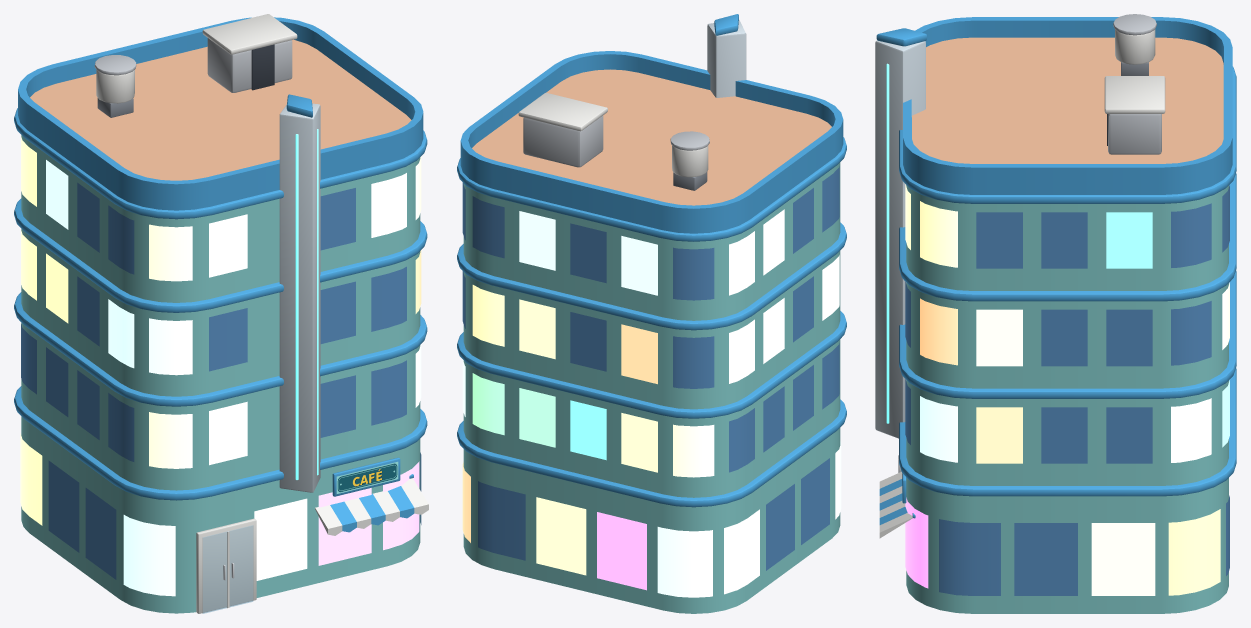
The model's file is deco_cristal_turquesa.glb.
3 views of the same model, side by side, from view 1: azimuth 30°, elevation 25°; view 2: azimuth 150°, elevation 25°; view 3: azimuth 270°, elevation 25° (orthographic). The views are drawn at different scales.
Parts seen in each view (by area): view 1: deco_cristal_turquesa; view 2: deco_cristal_turquesa; view 3: deco_cristal_turquesa.
Part boxes in pixels (<box>): deco_cristal_turquesa: <box>14,14,428,613</box>; deco_cristal_turquesa: <box>457,14,846,613</box>; deco_cristal_turquesa: <box>875,14,1236,613</box>.
Size of the model in its own units: 10.84 by 16.63 by 10.74.
11 materials, 2 textured.
